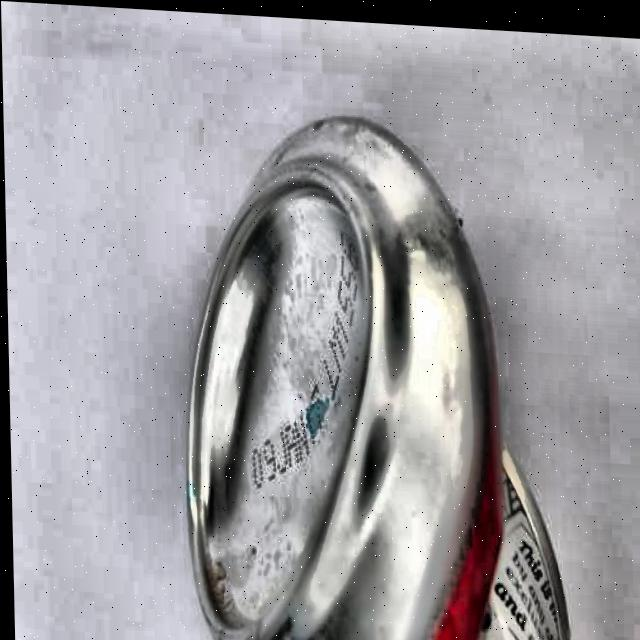metal: (168, 101, 570, 640)
